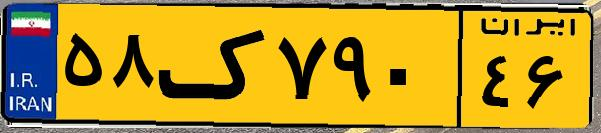0: (385, 28, 445, 110)
4: (475, 38, 525, 113)
5: (57, 26, 110, 100)
6: (525, 38, 570, 115)
7: (270, 28, 330, 110)
8: (110, 28, 158, 98)
9: (330, 28, 385, 110)
ک: (158, 12, 270, 120)
